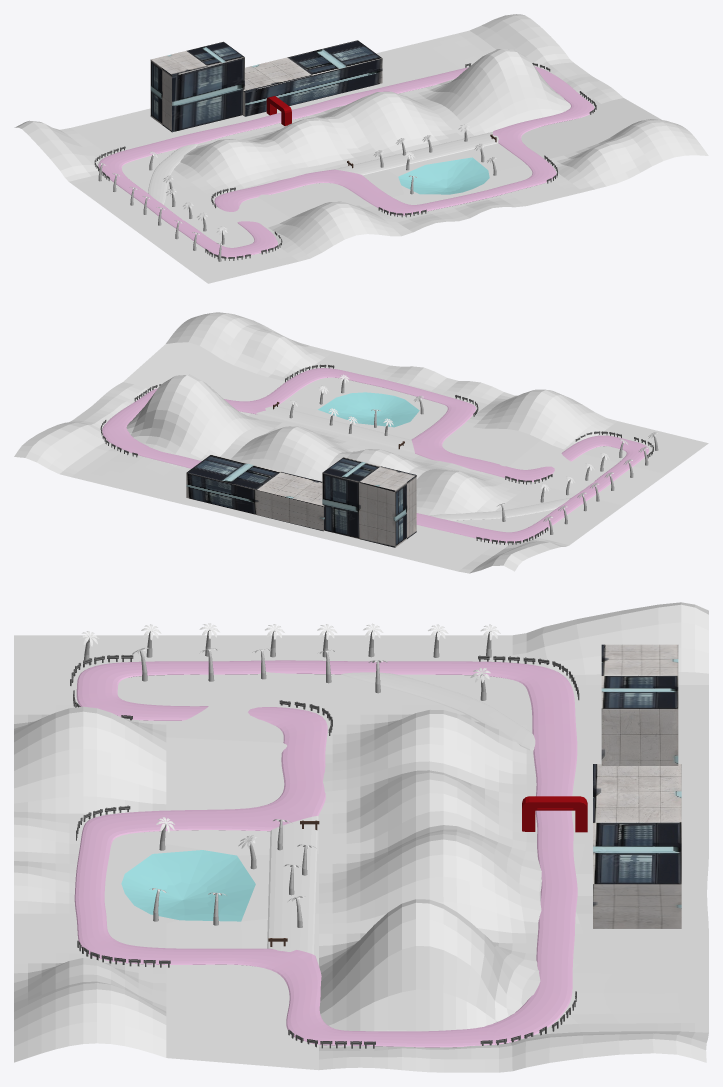
File: pista_deserto.fbx
3 views of the same model, one above another, from view 1: azimuth 30°, elevation 25°; view 2: azimuth 150°, elevation 25°; view 3: azimuth 270°, elevation 25° (orthographic). The views are drawn at different scales.
Visible parts, largest first — view 1: Plane, Vert, Cube, Vert.002, Plane.001, Cylinder, Plane.062, Cube.001; view 2: Plane, Cube, Vert, Vert.002, Plane.001, Cylinder, Plane.062; view 3: Plane, Vert, Cube, Vert.002, Plane.001, Cylinder, Plane.062, Cube.001.
Boxes of the visible parts, left/top/right/bottom form: Plane: left=14, top=14, right=708, bottom=283; Vert: left=98, top=66, right=594, bottom=258; Cube: left=150, top=40, right=382, bottom=132; Vert.002: left=148, top=132, right=498, bottom=204; Plane.001: left=398, top=157, right=489, bottom=194; Cylinder: left=98, top=124, right=496, bottom=261; Plane.062: left=94, top=63, right=596, bottom=260; Cube.001: left=266, top=96, right=291, bottom=125; Plane: left=14, top=312, right=708, bottom=573; Cube: left=186, top=454, right=416, bottom=547; Vert: left=102, top=368, right=648, bottom=542; Vert.002: left=256, top=406, right=570, bottom=520; Plane.001: left=318, top=392, right=419, bottom=427; Cylinder: left=289, top=374, right=658, bottom=534; Plane.062: left=100, top=364, right=653, bottom=545; Plane: left=14, top=602, right=708, bottom=1072; Vert: left=74, top=660, right=577, bottom=1047; Cube: left=593, top=644, right=681, bottom=928; Vert.002: left=267, top=672, right=535, bottom=954; Plane.001: left=121, top=850, right=255, bottom=921; Cylinder: left=80, top=623, right=500, bottom=927; Plane.062: left=70, top=655, right=579, bottom=1048; Cube.001: left=522, top=796, right=587, bottom=832.
Size of the model in its own units: 3481 by 438 by 2332.
